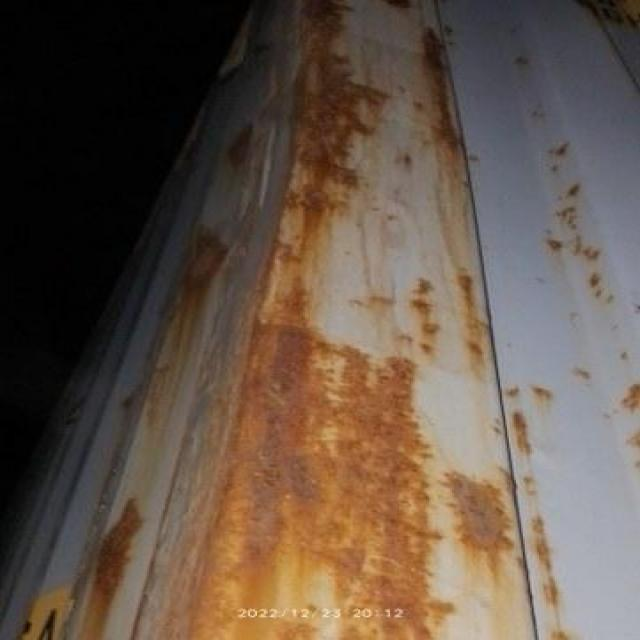rust: (244, 372, 363, 606), (296, 64, 353, 204), (68, 507, 160, 587), (376, 433, 417, 598), (426, 38, 465, 148), (253, 314, 340, 362), (172, 257, 225, 325), (450, 486, 498, 556), (222, 130, 254, 181)
